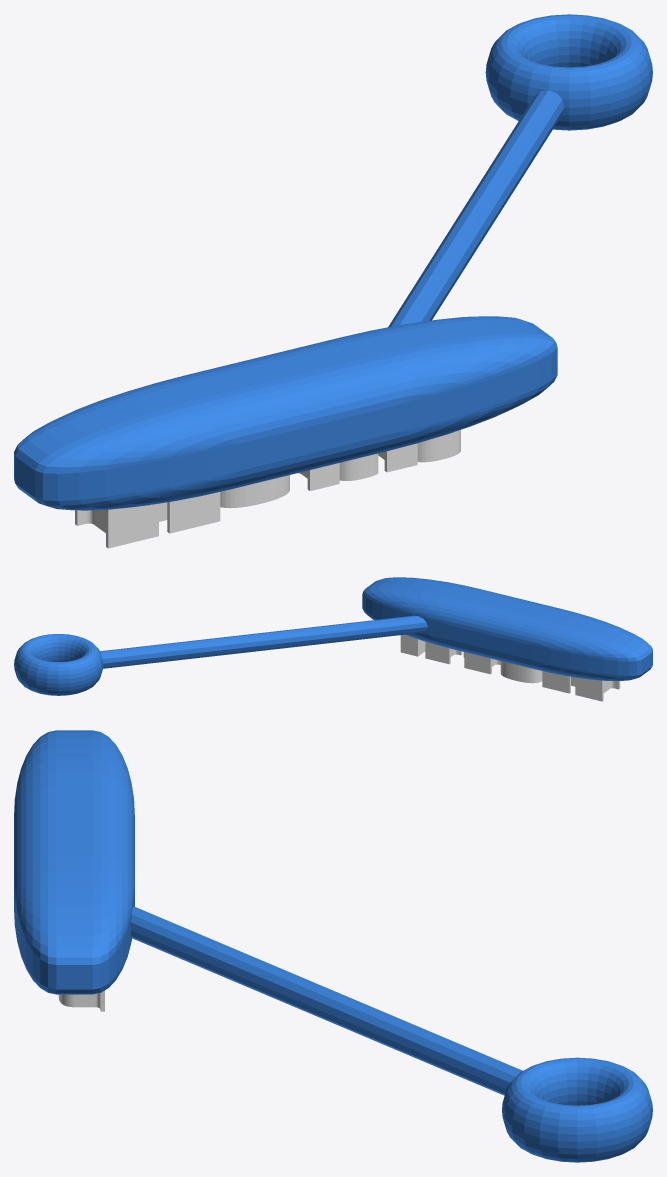
Rendered from horn.obj.
3 views of the same model, one above another, from view 1: azimuth 30°, elevation 25°; view 2: azimuth 150°, elevation 25°; view 3: azimuth 270°, elevation 25° (orthographic). The views are drawn at different scales.
Parts seen in each view (by area): view 1: group_0_3836137, group_0_16448250; view 2: group_0_3836137, group_0_16448250; view 3: group_0_3836137, group_0_16448250.
Boxes of the visible parts, x1,y1,x2,y2 form: group_0_3836137: [14, 14, 652, 510]; group_0_16448250: [75, 430, 460, 548]; group_0_3836137: [14, 577, 652, 695]; group_0_16448250: [400, 634, 620, 701]; group_0_3836137: [14, 730, 652, 1162]; group_0_16448250: [58, 990, 104, 1011].
Size of the model in its own units: 30.89 by 4 by 21.14.
